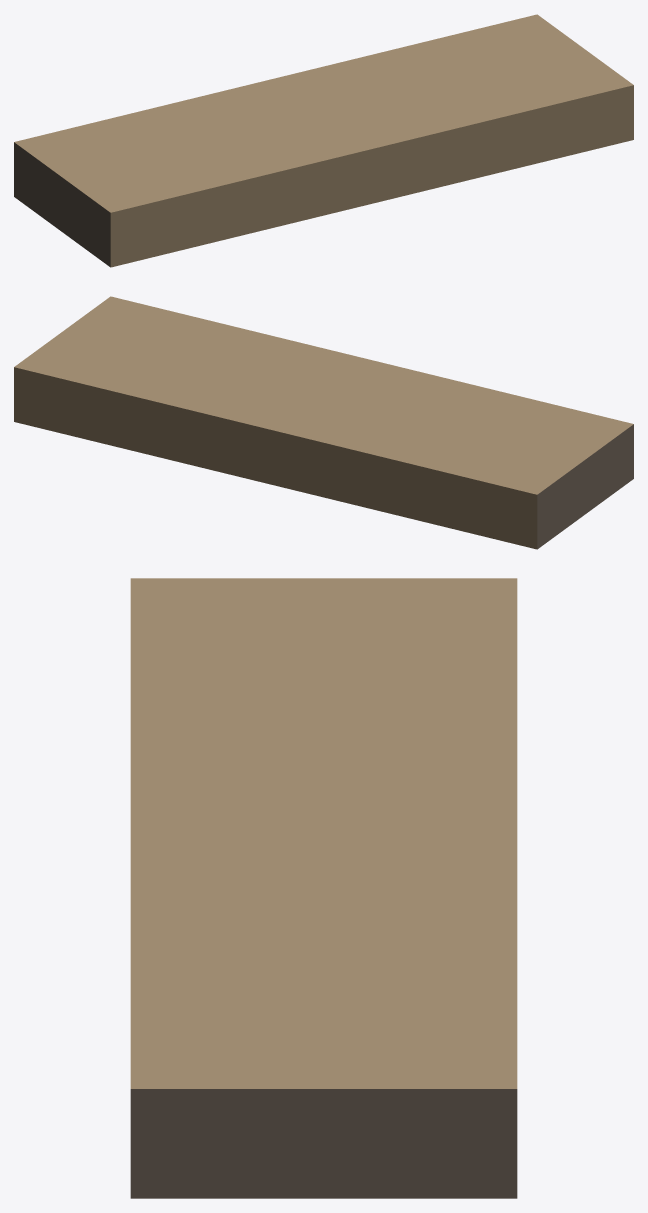
Rendered from TB_D_Bd_Wide_DoorStep_A.FBX.
3 views of the same model, one above another, from view 1: azimuth 30°, elevation 25°; view 2: azimuth 150°, elevation 25°; view 3: azimuth 270°, elevation 25° (orthographic). The views are drawn at different scales.
Visible parts, largest first — view 1: TB_D_Bd_Wide_DoorStep_A; view 2: TB_D_Bd_Wide_DoorStep_A; view 3: TB_D_Bd_Wide_DoorStep_A.
Boxes of the visible parts, box(x1,y1,x2,y2) form: TB_D_Bd_Wide_DoorStep_A: box(14, 14, 633, 267); TB_D_Bd_Wide_DoorStep_A: box(14, 296, 633, 549); TB_D_Bd_Wide_DoorStep_A: box(130, 578, 517, 1198).
Size of the model in its own units: 2.5 by 0.25 by 0.8.
